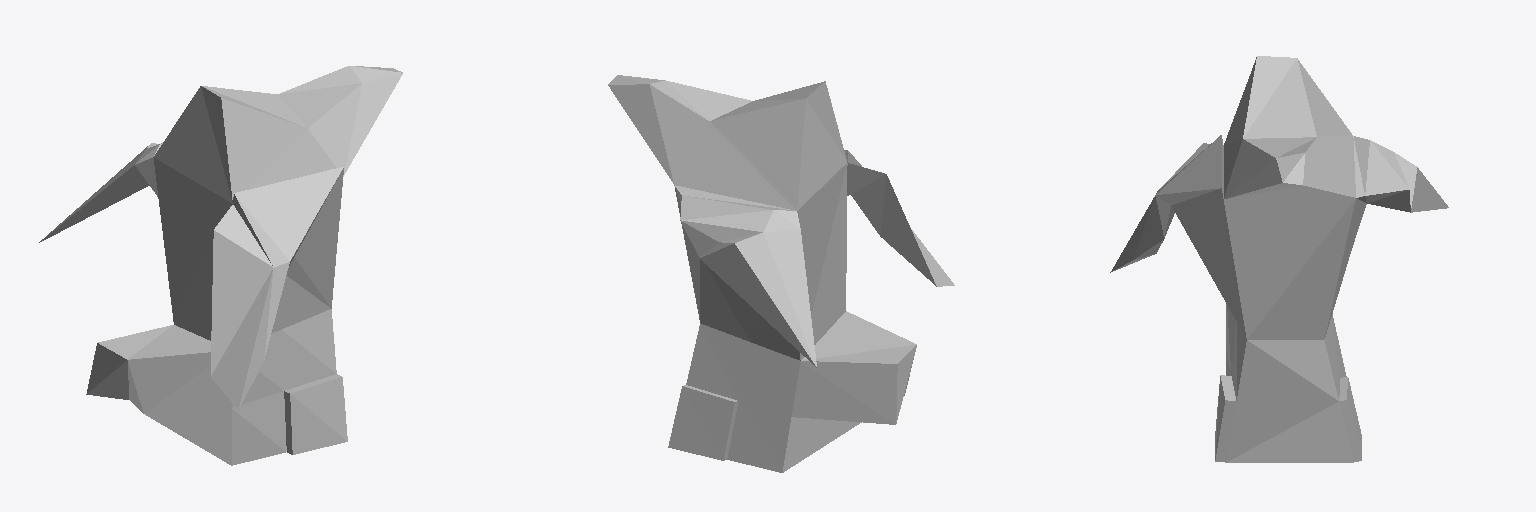
The model's file is badbird.obj.
The picture shows the model from 3 angles: view 1: azimuth 30°, elevation 25°; view 2: azimuth 150°, elevation 25°; view 3: azimuth 270°, elevation 25°; orthographic projection.
Visible parts, largest first — view 1: Cube; view 2: Cube; view 3: Cube.
Part boxes in pixels (bbox=[...]): Cube: bbox=[39, 66, 402, 465]; Cube: bbox=[608, 75, 954, 472]; Cube: bbox=[1110, 56, 1448, 462].
Bounding box in the file's own units: 5.39 × 6.15 × 5.32.